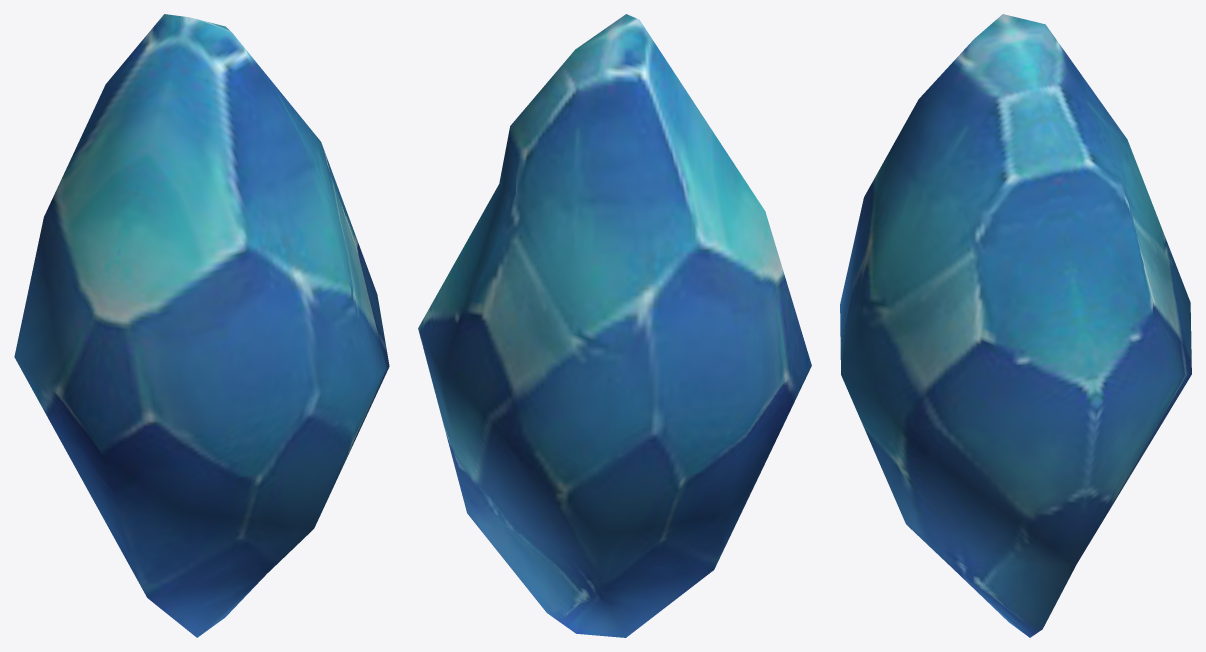
File: SD_shuijing.FBX
3 views of the same model, side by side, from view 1: azimuth 30°, elevation 25°; view 2: azimuth 150°, elevation 25°; view 3: azimuth 270°, elevation 25° (orthographic). The views are drawn at different scales.
Parts seen in each view (by area): view 1: SD_shuijing; view 2: SD_shuijing; view 3: SD_shuijing.
Part boxes in pixels (left/top/right/bottom): SD_shuijing: left=14, top=14, right=389, bottom=637; SD_shuijing: left=418, top=14, right=811, bottom=637; SD_shuijing: left=840, top=14, right=1191, bottom=637.
Bounding box in the file's own units: 47.03 × 84.37 × 44.61.
1 material, 1 textured.
